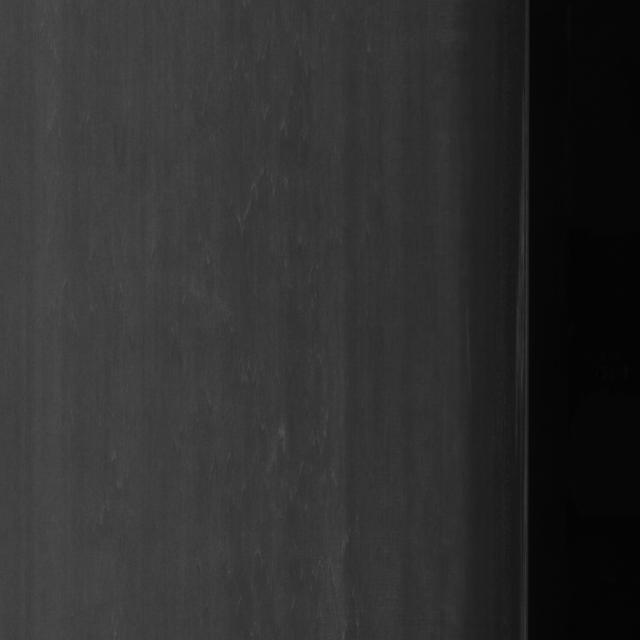inclusion: (231, 376, 368, 560), (210, 120, 325, 277)
